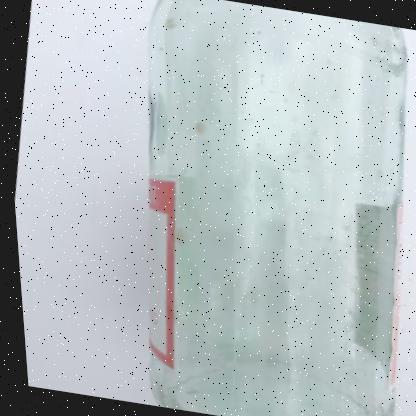Glass: (142, 0, 405, 416)
